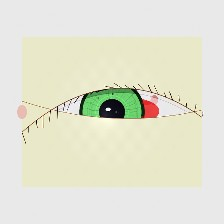hemorrhage_spot: (81, 75, 172, 147)
